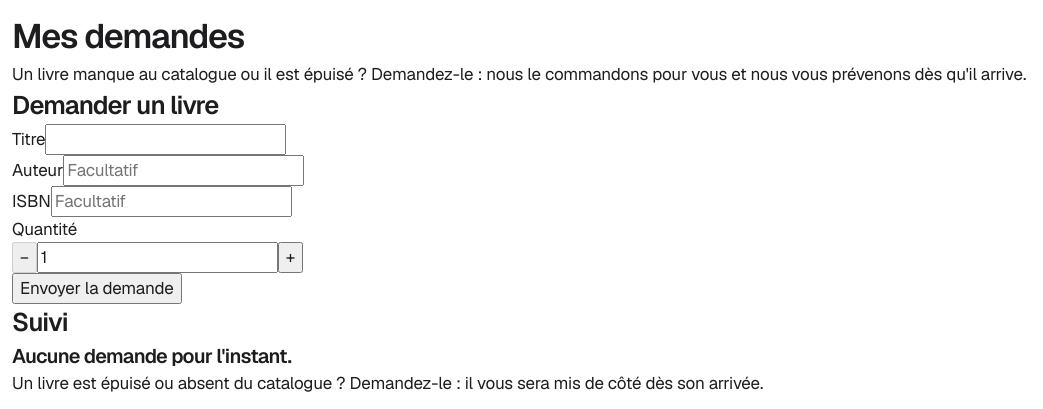
Scenario: page Mes demandes › affiche sous chaque champ les erreurs renvoyées par la librairie
Expected: the heading "Aucune demande pour l'instant." is shown, [12, 343, 291, 369]
Click the button "Envoyer la demande". click: x=97, y=289
box: [12, 273, 182, 304]
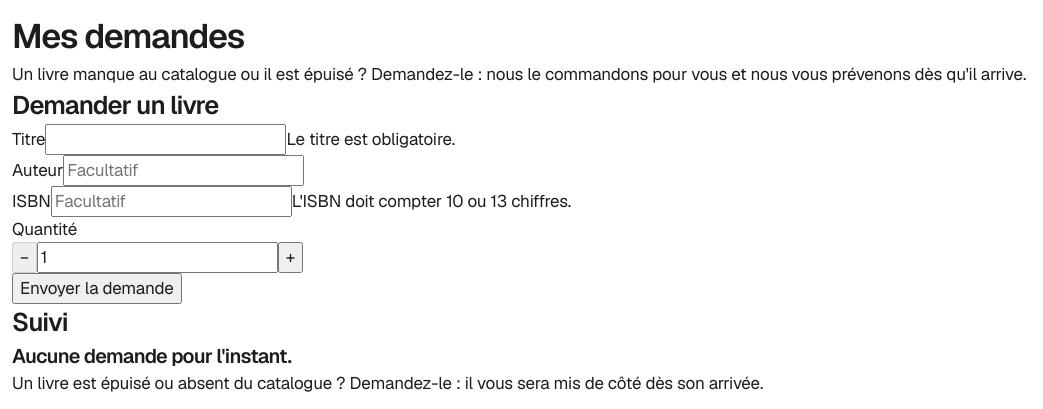
Now the text "Le titre est obligatoire." is shown, box [286, 128, 455, 150]
Now the text "L'ISBN doit compter 10 ou 13 chiffres." is shown, box [292, 190, 571, 212]
